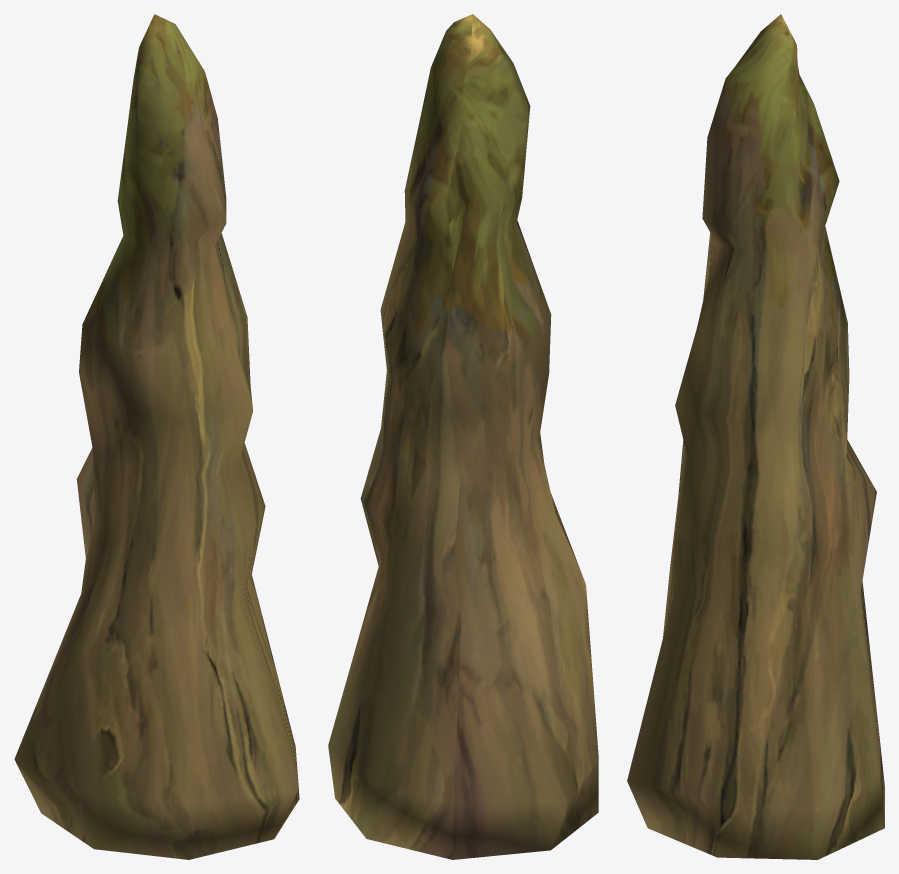
Rendered from hut_env_cypress_elbow.glb.
3 renders of one model, left to right at view 1: azimuth 30°, elevation 25°; view 2: azimuth 150°, elevation 25°; view 3: azimuth 270°, elevation 25°, orthographic.
Parts seen in each view (by area): view 1: hut_env_cypress_elbow; view 2: hut_env_cypress_elbow; view 3: hut_env_cypress_elbow.
Boxes of the visible parts, box(x1,y1,x2,y2) form: hut_env_cypress_elbow: box(14, 14, 299, 859); hut_env_cypress_elbow: box(328, 14, 598, 859); hut_env_cypress_elbow: box(627, 14, 884, 859).
Bounding box in the file's own units: 0.0995 × 0.3135 × 0.0929.
1 material, 1 textured.
